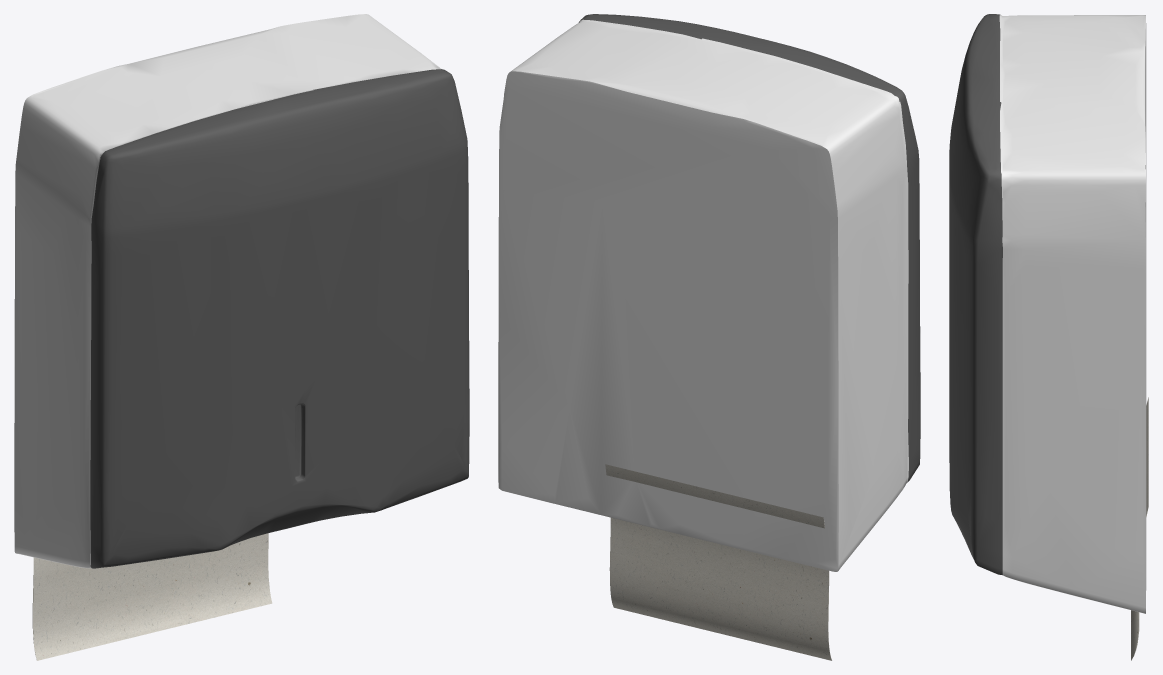
File: Vending paperReduced.fbx
The picture shows the model from 3 angles, left to right: view 1: azimuth 30°, elevation 25°; view 2: azimuth 150°, elevation 25°; view 3: azimuth 270°, elevation 25°; orthographic projection. The views are drawn at different scales.
Visible parts, largest first — view 1: Vending paper, paper; view 2: Vending paper, paper; view 3: Vending paper, paper.
Boxes of the visible parts, box(x1,y1,x2,y2) form: Vending paper: box(14, 14, 469, 568); paper: box(32, 533, 272, 660); Vending paper: box(498, 14, 920, 571); paper: box(605, 464, 831, 660); Vending paper: box(949, 14, 1146, 613); paper: box(1131, 397, 1148, 660).
Bounding box in the file's own units: 275 × 408 × 135.
